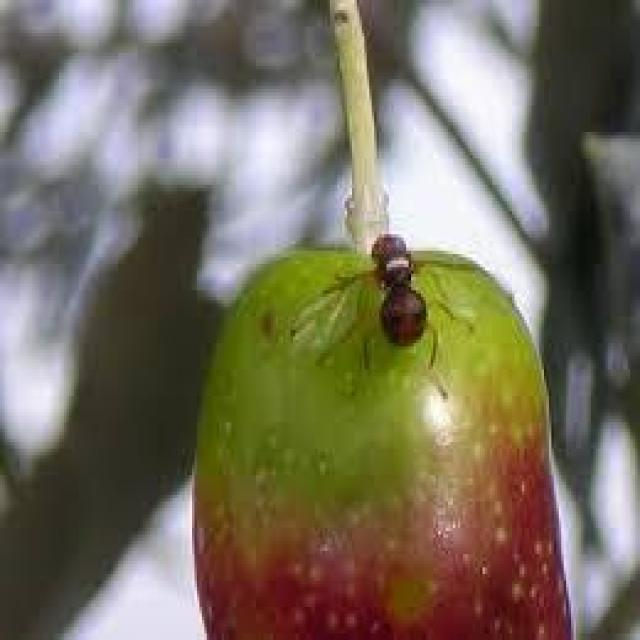Anthracnose: (194, 238, 572, 636)
